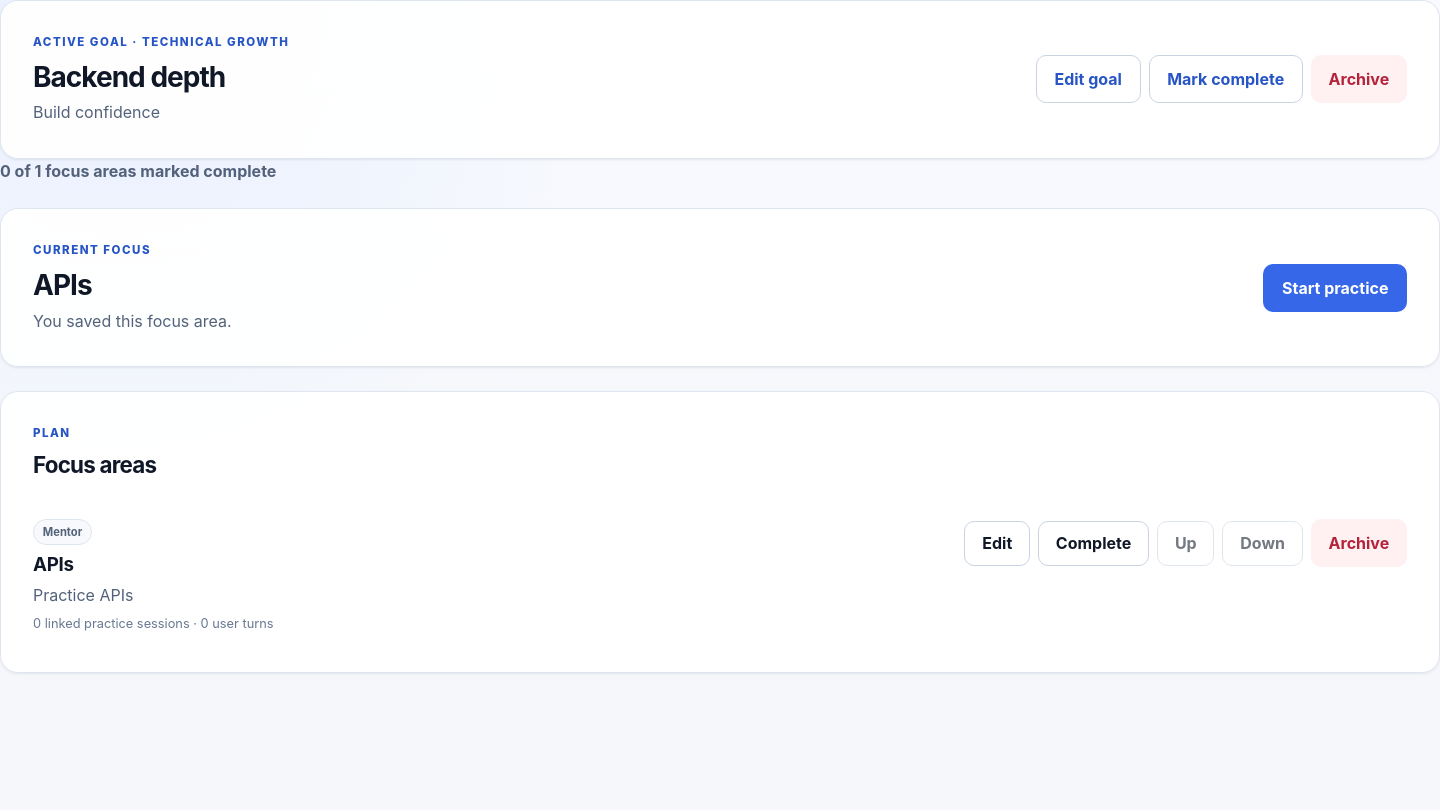
Scenario: GoalManager › moves an archived goal to history and removes its active practice action
The width and height of the screenshot is (1440, 810).
Click the button with aria-label "Archive goal".
click(1359, 79)  # box [1311,55,1407,103]
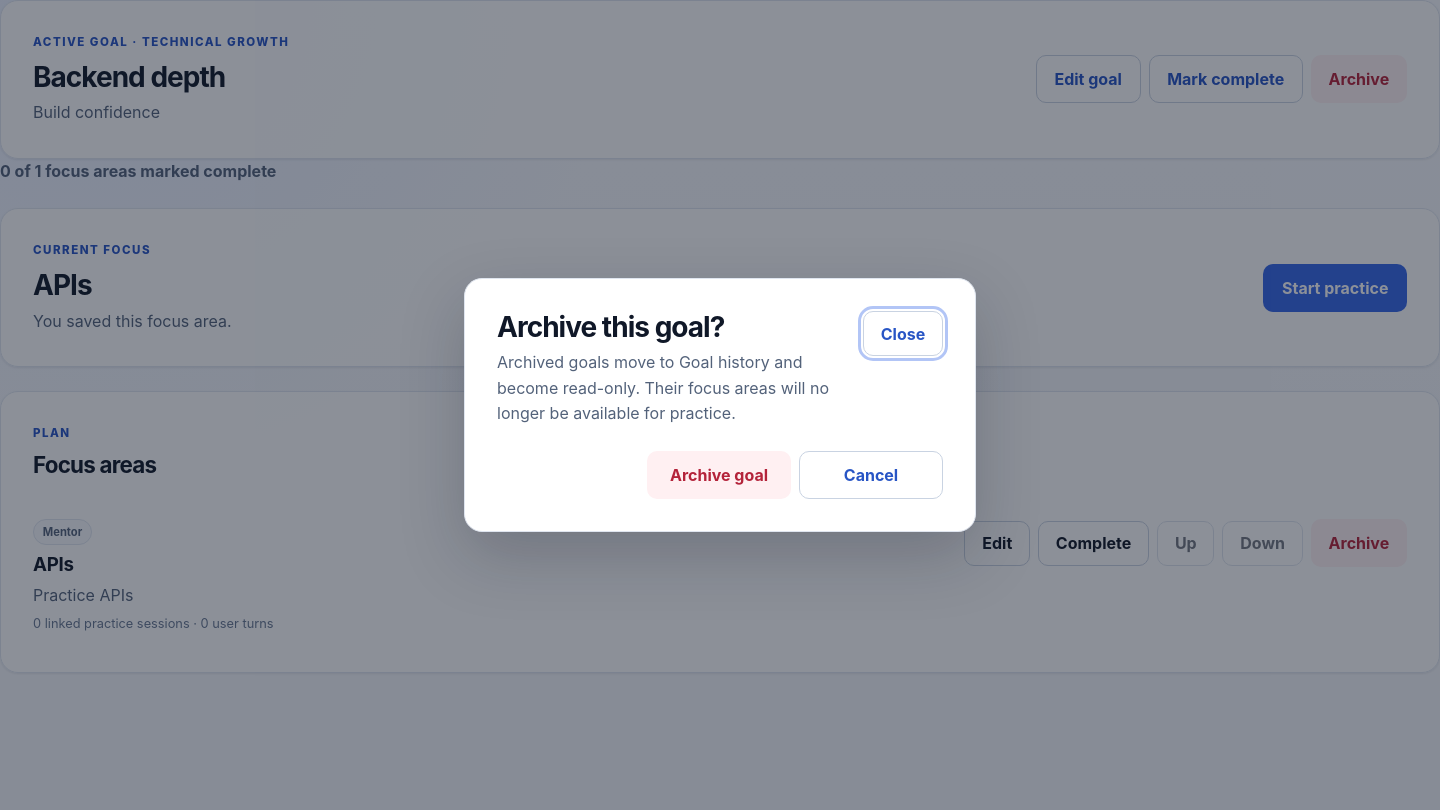
Click the button "Archive goal".
click(719, 475)  # box [647,451,791,499]
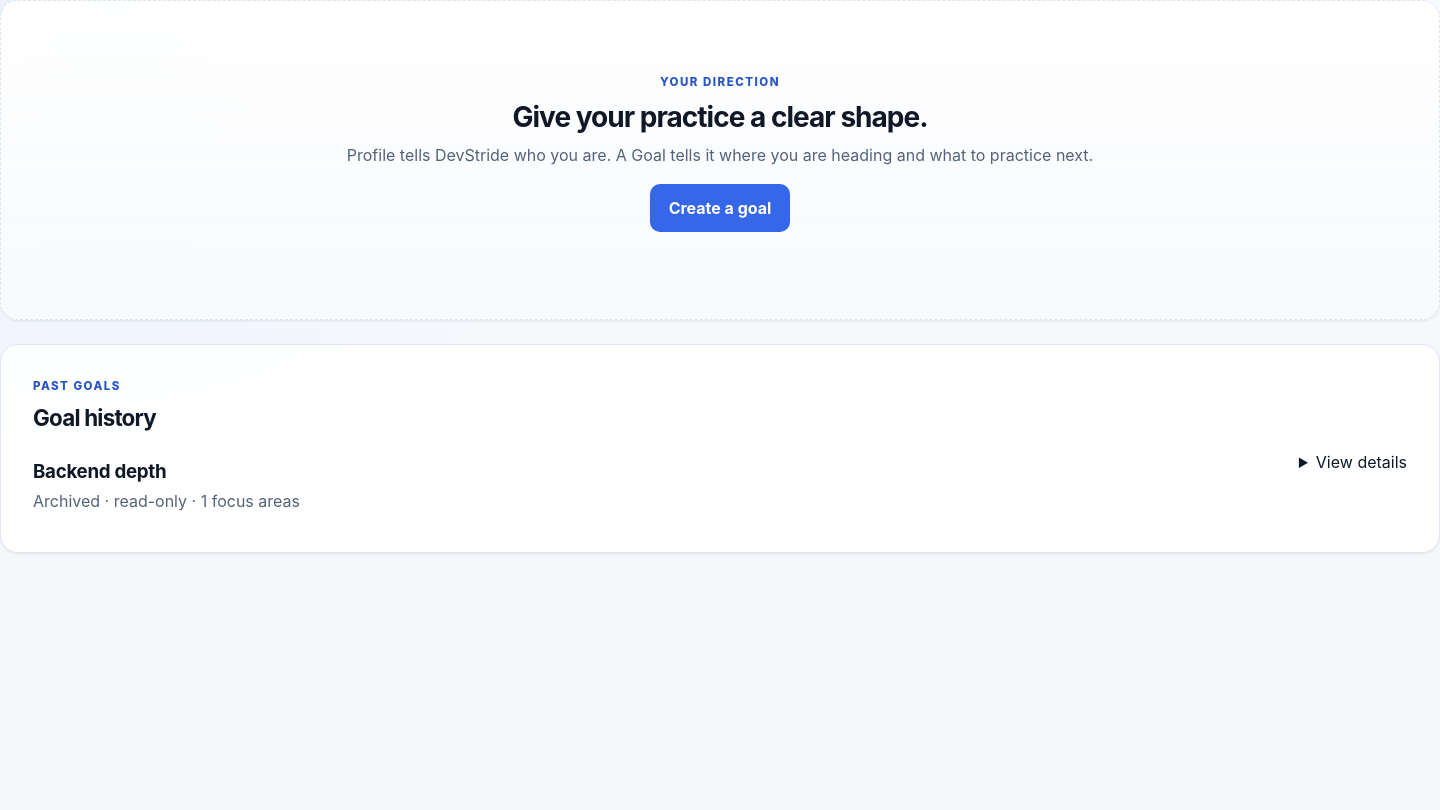
Now the text "Archived · read-only · 1 focus areas" is shown, box [33,489,300,515]
Now the text "Active goal · Technical growth" is gone
Now the button "Start practice" is gone
